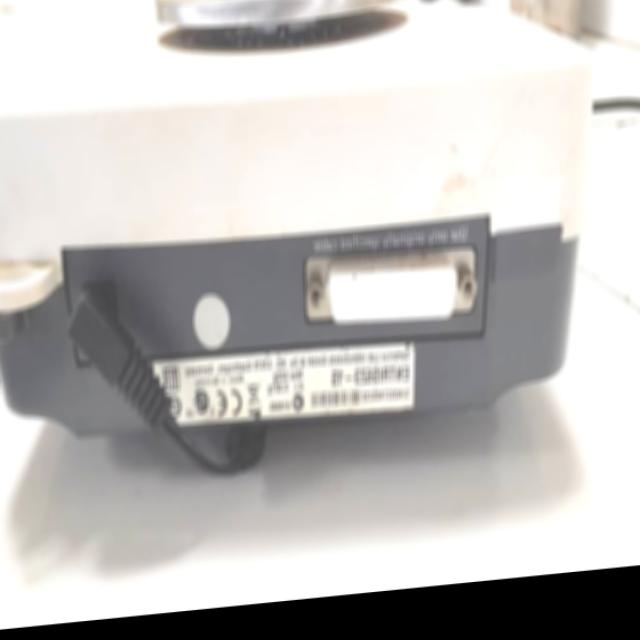Electronic balance: (0, 0, 628, 469)
